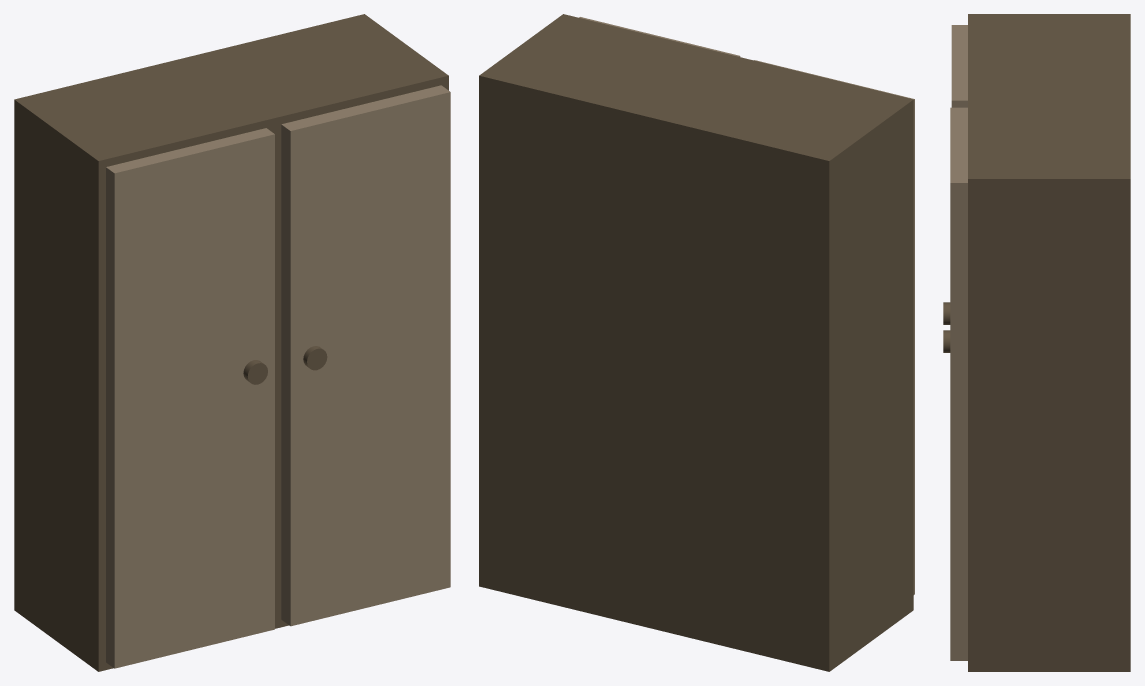
Rendered from colored wardrobe.fbx.
3 renders of one model, left to right at view 1: azimuth 30°, elevation 25°; view 2: azimuth 150°, elevation 25°; view 3: azimuth 270°, elevation 25°, orthographic. The views are drawn at different scales.
Parts seen in each view (by area): view 1: polySurface2; view 2: polySurface2; view 3: polySurface2.
Part boxes in pixels (bbox=[...]): polySurface2: bbox=[14, 14, 450, 671]; polySurface2: bbox=[479, 14, 914, 671]; polySurface2: bbox=[950, 14, 1130, 671].
Bounding box in the file's own units: 1.41 × 1.97 × 0.6797.
